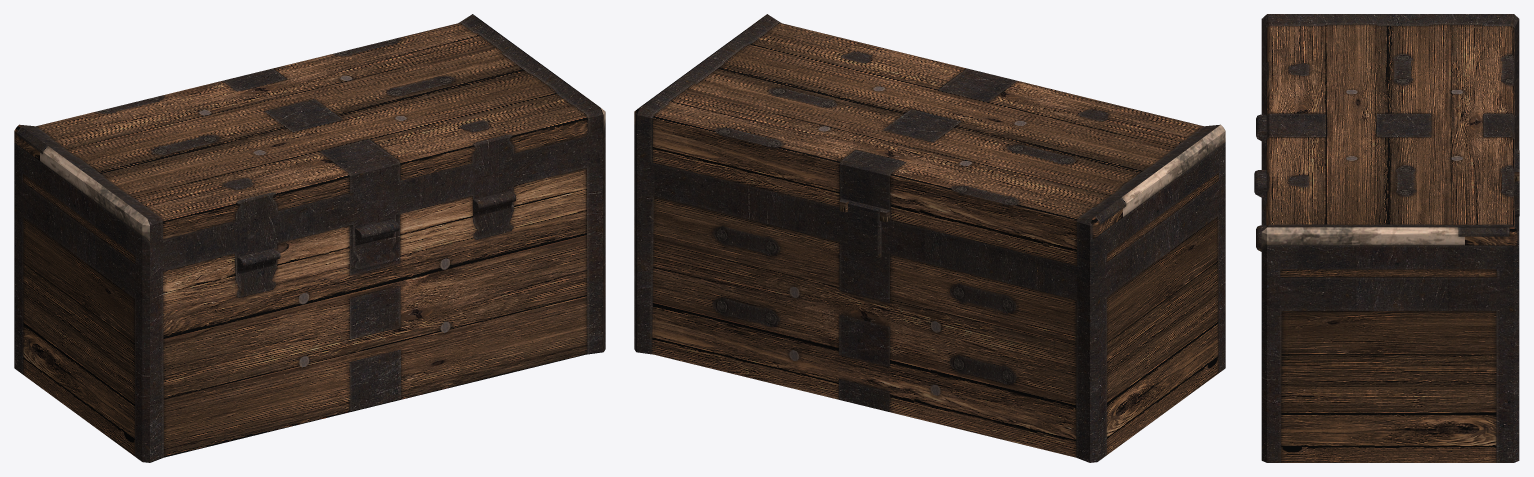
Rendered from Skyrim_chest_closed.obj.
3 renders of one model, left to right at view 1: azimuth 30°, elevation 25°; view 2: azimuth 150°, elevation 25°; view 3: azimuth 270°, elevation 25°, orthographic. The views are drawn at different scales.
Visible parts, largest first — view 1: Skyrim_chest_closed; view 2: Skyrim_chest_closed; view 3: Skyrim_chest_closed.
Part boxes in pixels (x1,y1,x2,y2): Skyrim_chest_closed: [14, 14, 605, 462]; Skyrim_chest_closed: [634, 14, 1225, 462]; Skyrim_chest_closed: [1254, 14, 1519, 462].
Size of the model in its own units: 1.44 by 0.72 by 0.7424.
